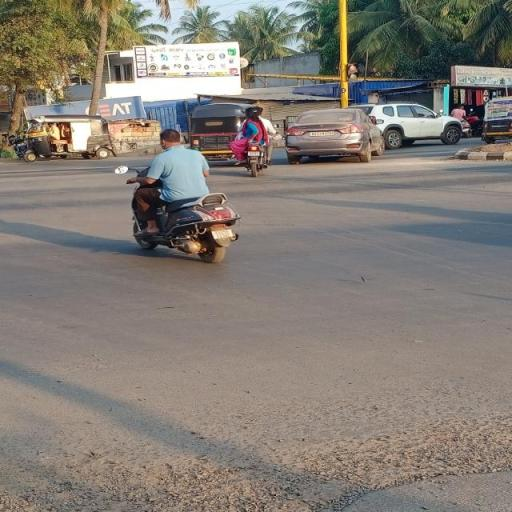bike: (114, 127, 246, 266)
withouthelmet: (160, 130, 180, 147)
